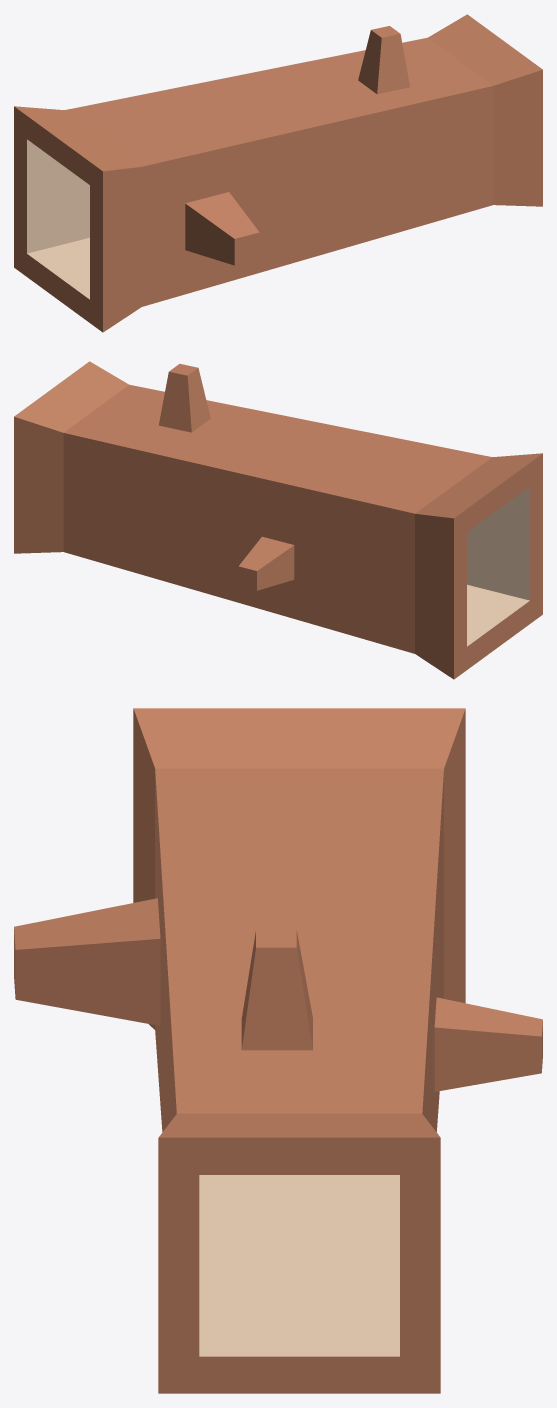
File: log.glb
3 renders of one model, top to bottom at view 1: azimuth 30°, elevation 25°; view 2: azimuth 150°, elevation 25°; view 3: azimuth 270°, elevation 25°, orthographic. The views are drawn at different scales.
Visible parts, largest first — view 1: log; view 2: log; view 3: log.
Boxes of the visible parts, x1,y1,x2,y2 form: log: (14,14,542,332); log: (14,361,542,679); log: (14,708,542,1393).
Bounding box in the file's own units: 1 × 0.4167 × 0.5493.
